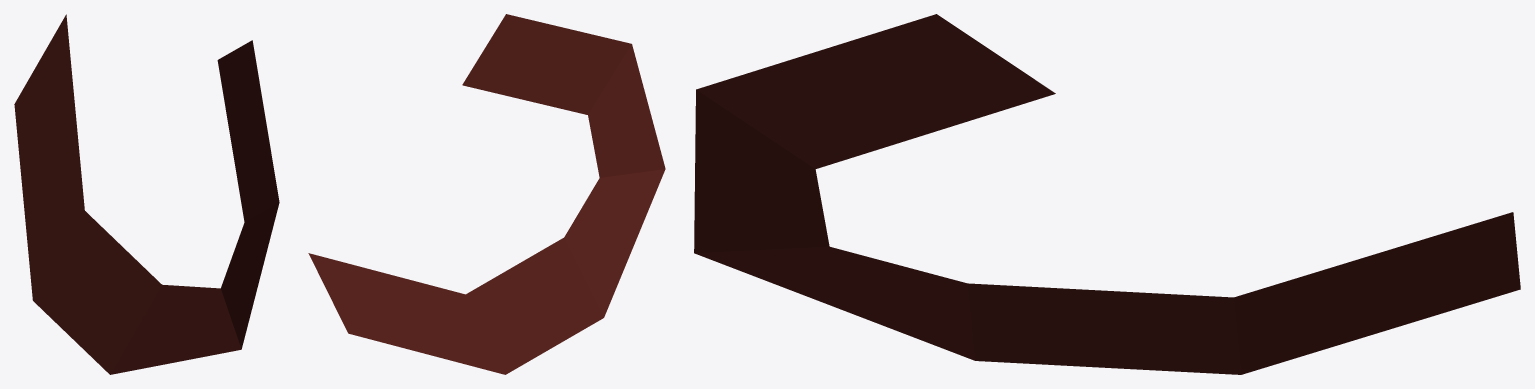
Rendered from DavidMouth.glb.
3 views of the same model, side by side, from view 1: azimuth 30°, elevation 25°; view 2: azimuth 150°, elevation 25°; view 3: azimuth 270°, elevation 25° (orthographic). The views are drawn at different scales.
Parts seen in each view (by area): view 1: DavidMouth; view 2: DavidMouth; view 3: DavidMouth.
Boxes of the visible parts, x1,y1,x2,y2 form: DavidMouth: [14, 14, 279, 374]; DavidMouth: [308, 14, 665, 374]; DavidMouth: [694, 14, 1520, 374].
Bounding box in the file's own units: 0.2075 × 0.4131 × 0.7119.
